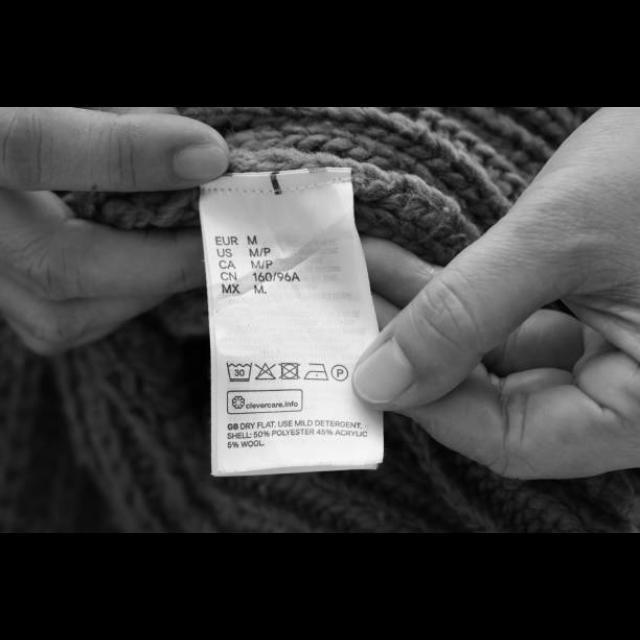30C: (226, 359, 254, 385)
DN_bleach: (252, 360, 278, 382)
DN_tumble_dry: (276, 361, 302, 382)
iron_low: (302, 362, 331, 382)
normal_dry_clean_solvents: (330, 363, 350, 383)
